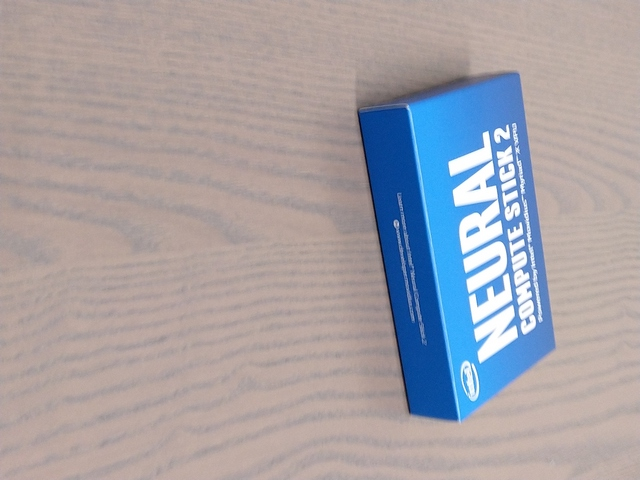box: (357, 70, 558, 425)
